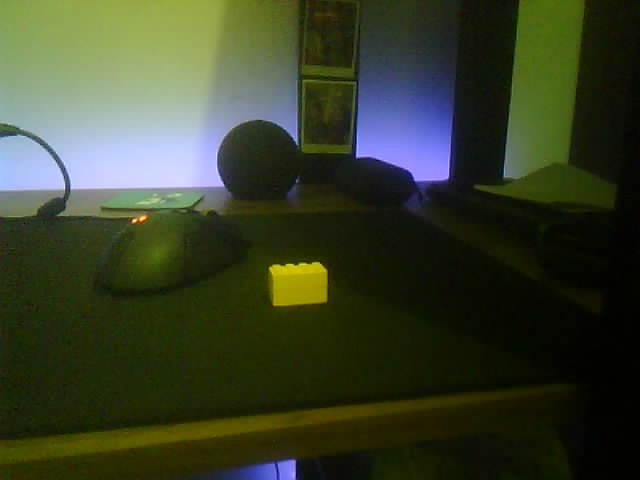lego: (266, 261, 329, 307)
